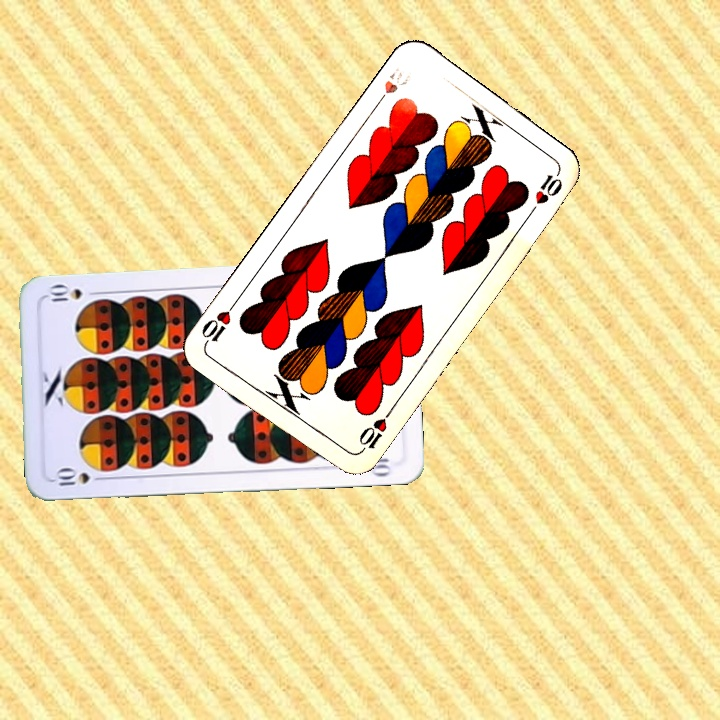H10: (354, 405, 395, 456), (371, 64, 413, 110)
S10: (50, 466, 109, 488)
